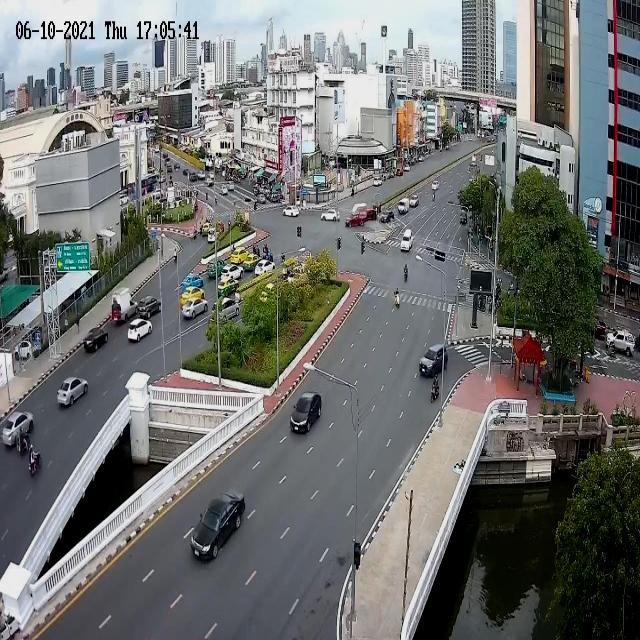Car: (190, 489, 245, 560), (290, 385, 324, 441), (1, 410, 34, 447), (419, 343, 448, 378), (57, 376, 87, 406), (605, 329, 634, 356), (211, 298, 240, 324), (136, 294, 162, 320), (83, 327, 109, 352), (180, 297, 208, 320), (127, 318, 153, 342), (220, 264, 244, 284), (253, 258, 276, 278), (400, 230, 413, 252), (321, 208, 340, 222), (282, 205, 300, 218), (398, 199, 410, 214), (409, 195, 419, 207)
